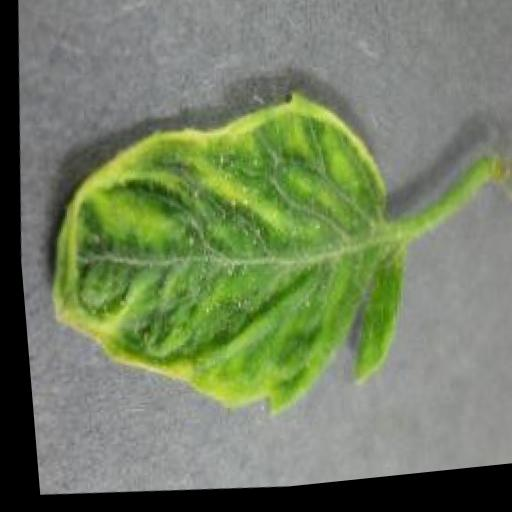Yellow Leaf Curl Virus: (24, 74, 420, 449)
